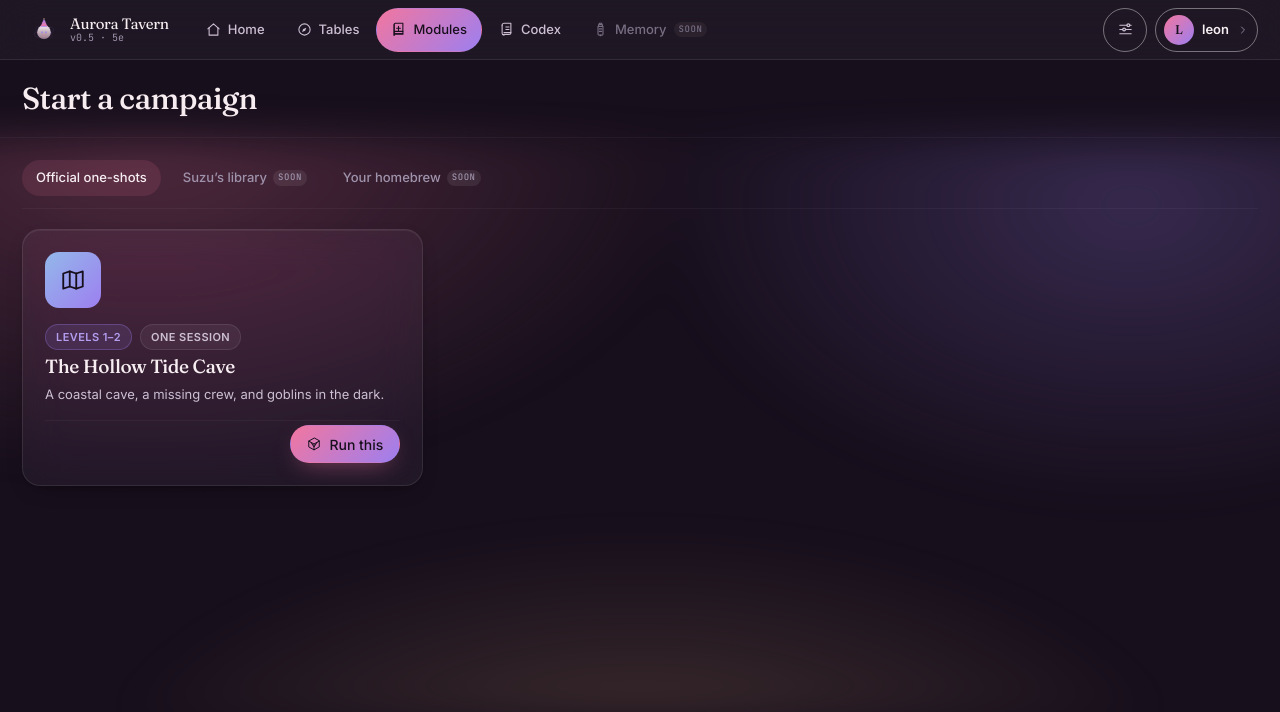
Test case: opens the starter form when a module is chosen
Click the button "Run this" at {"x": 345, "y": 444}, box [290,425,400,463]
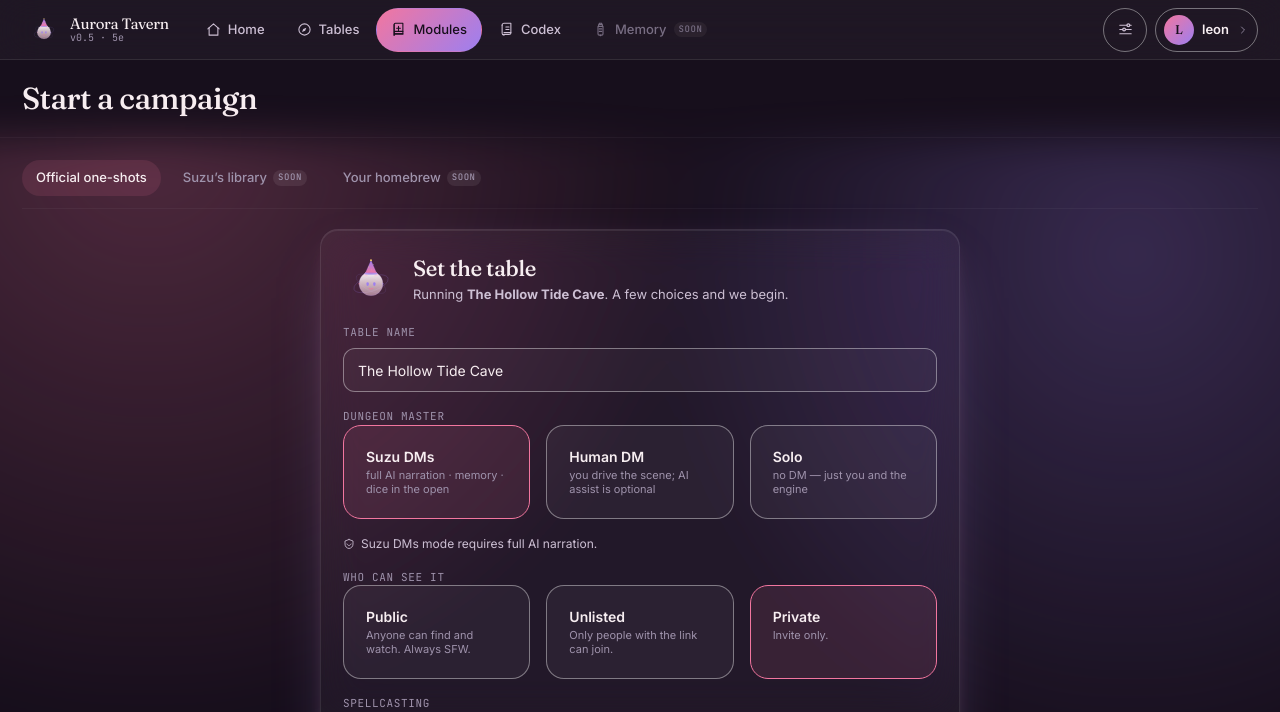
Check: the heading "Set the table" is shown, box [413,254,536,282]
Check: the text "Table name" is shown, box [343,325,416,339]
